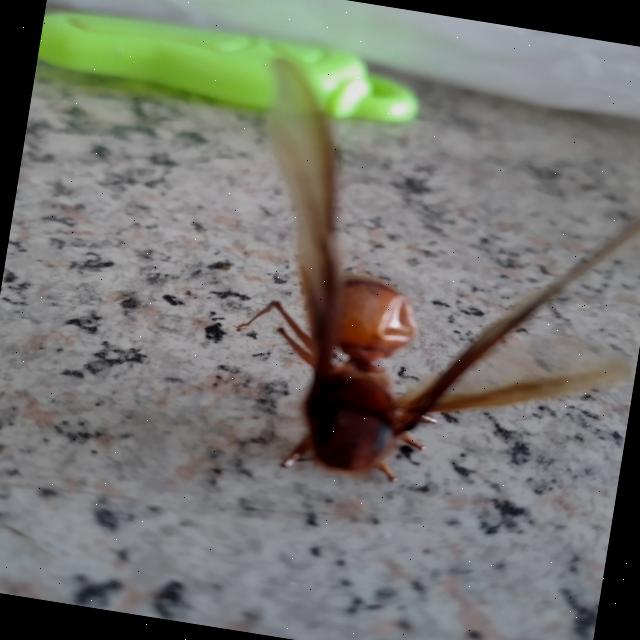Dead-Male-Alate: (215, 56, 640, 519)
